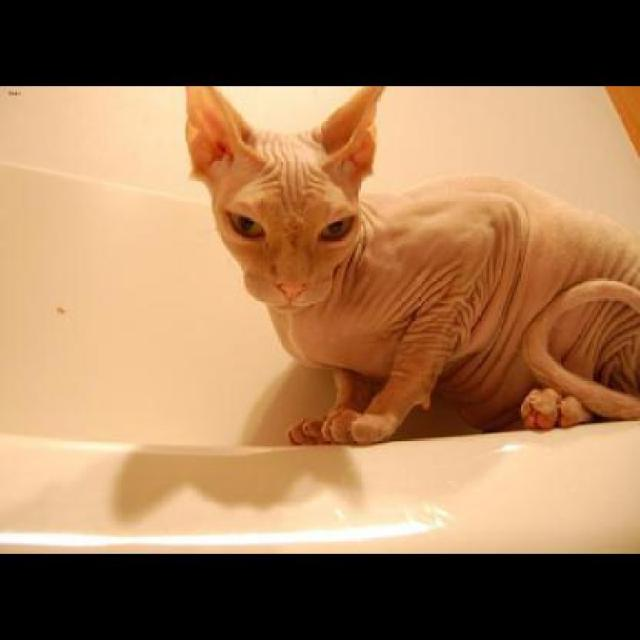unauthorized: (183, 83, 639, 446)
